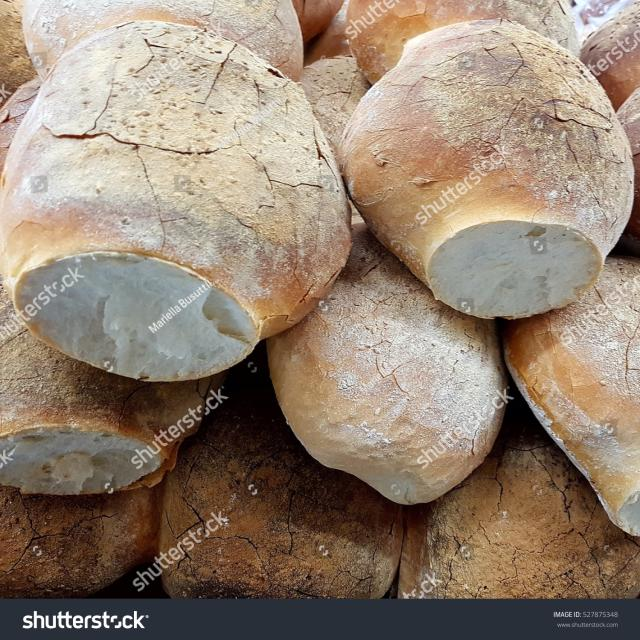Maltese-Bread: (3, 20, 350, 381), (338, 19, 634, 319), (267, 218, 509, 504)
